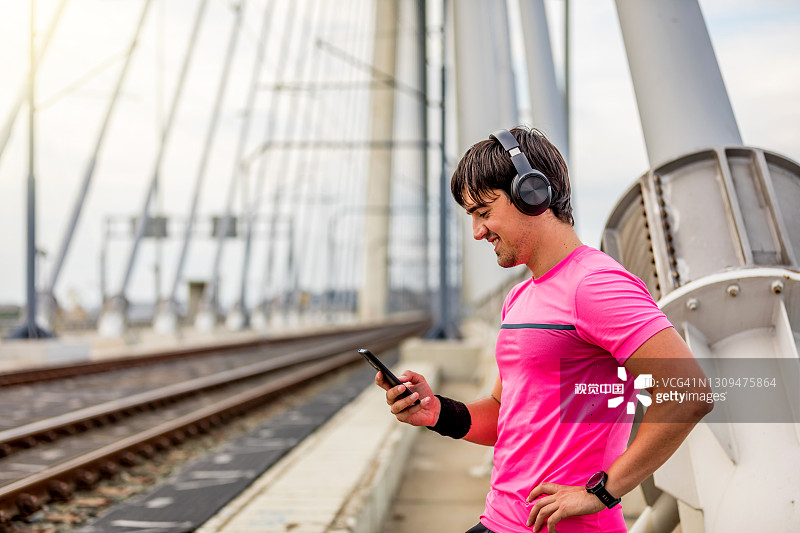no-phone: (499, 463, 635, 533)
reading: (352, 340, 455, 450)
